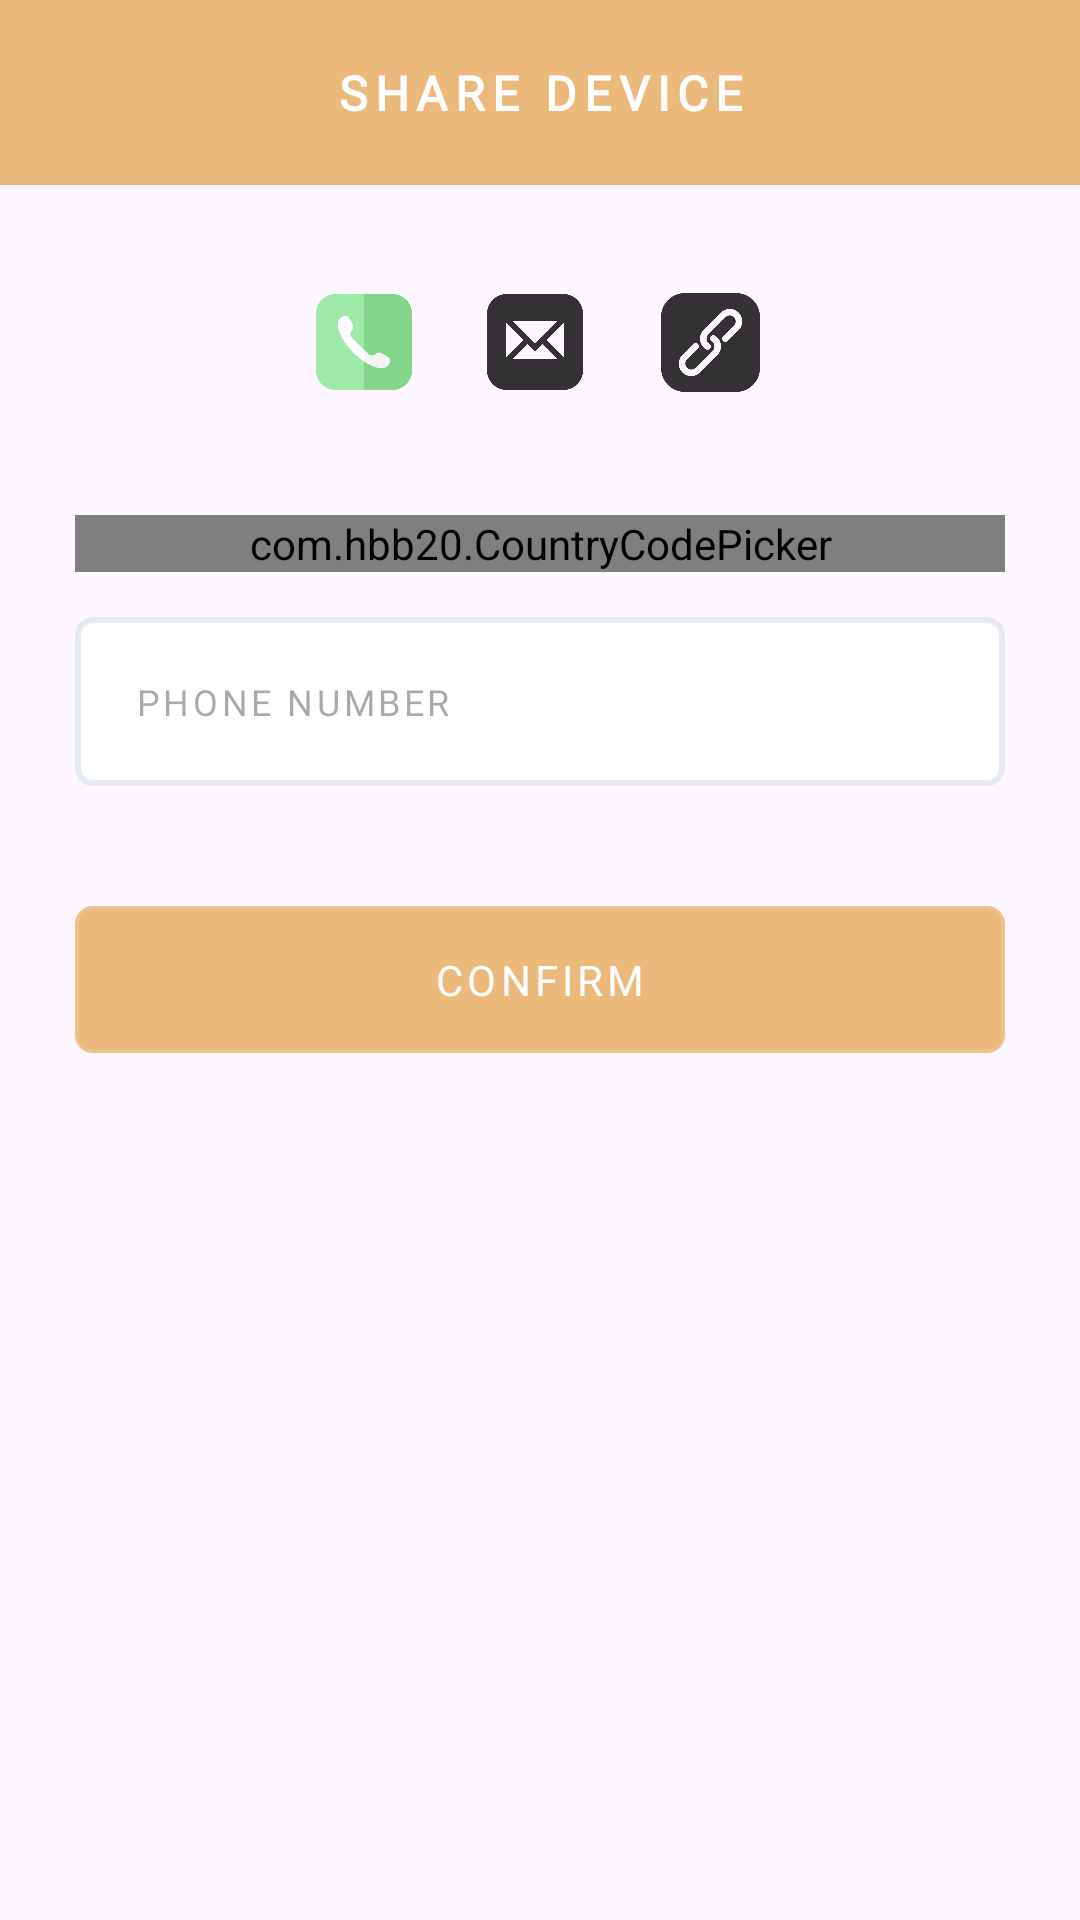

Screen size 1080*1920. Icon name, then its center in pixels as [x,y]:
email: [535,342]
phone: [364,342]
